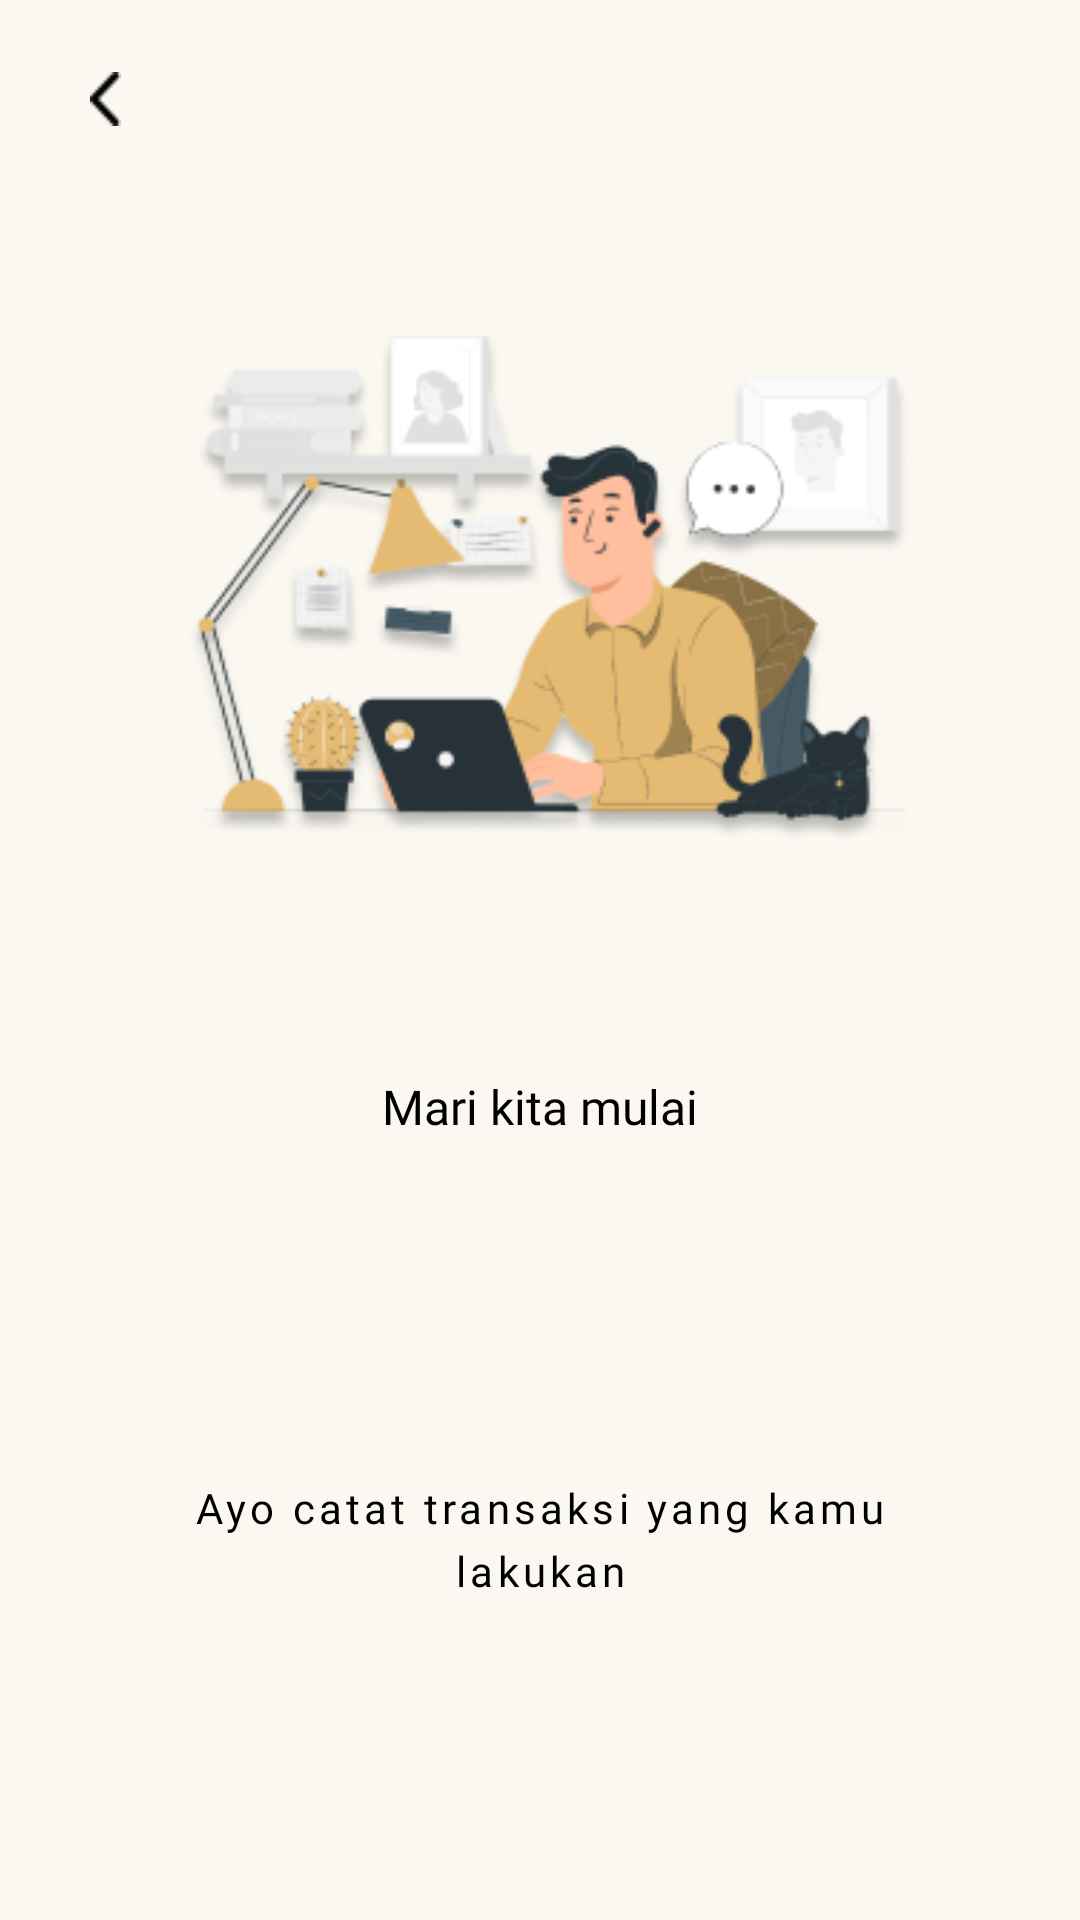

Named icons in this screenshot (1080px×1920px) and their centers, [x,y]:
back: [105,99]
